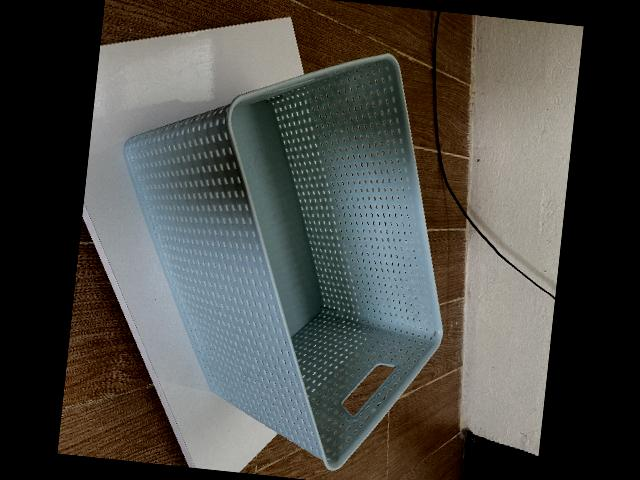cart: (120, 51, 441, 470)
